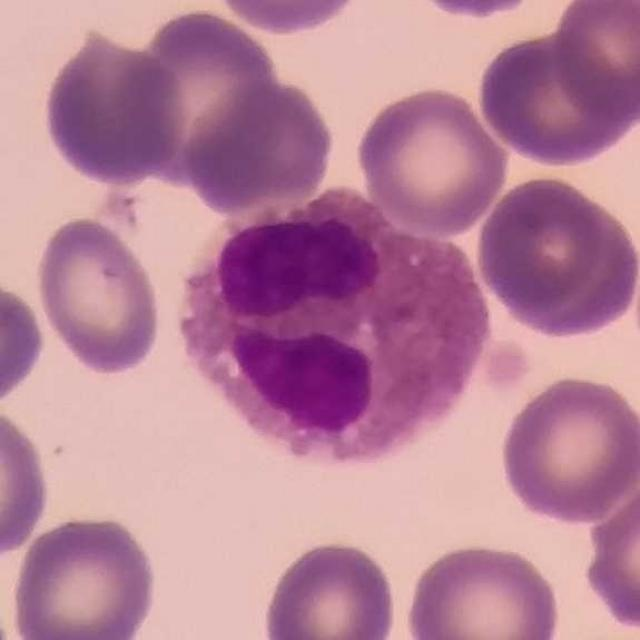Eosinophil: (174, 184, 496, 485)
Platelets: (483, 335, 532, 392)
RBC: (117, 8, 289, 195), (470, 170, 639, 341), (352, 82, 512, 238), (38, 26, 186, 189), (31, 212, 167, 380), (474, 28, 636, 167), (495, 371, 640, 526), (182, 76, 338, 215), (9, 510, 161, 640), (401, 537, 565, 640), (258, 536, 401, 640), (550, 0, 640, 124), (579, 468, 640, 636), (0, 402, 53, 563), (0, 274, 49, 412), (208, 0, 370, 37), (396, 0, 554, 21)
